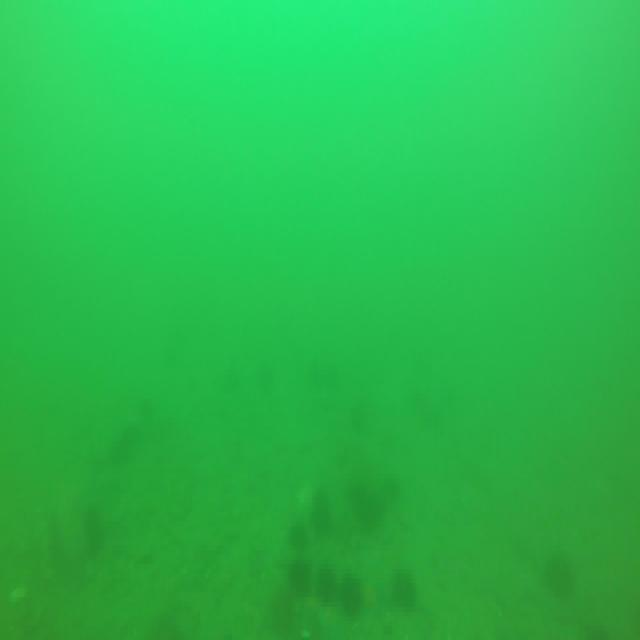echinus: (353, 481, 382, 528), (338, 574, 367, 618), (546, 552, 574, 592), (289, 558, 311, 598), (315, 566, 335, 604), (394, 573, 415, 607), (288, 522, 310, 553), (313, 490, 331, 526)
